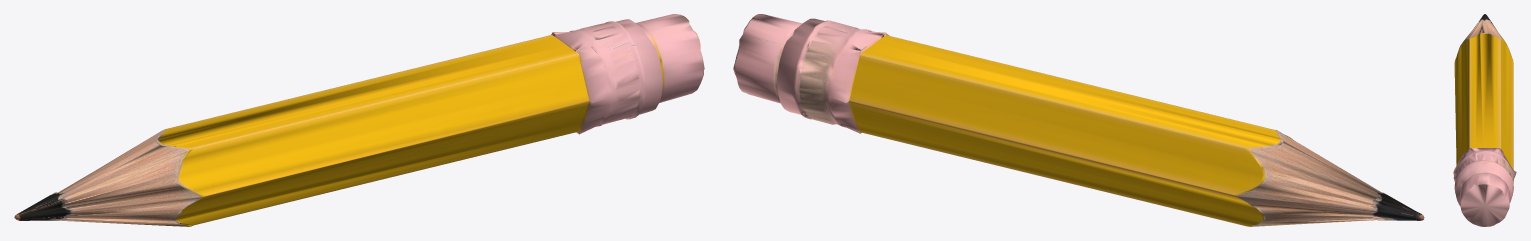
Rendered from pencil.glb.
The picture shows the model from 3 angles, left to right: view 1: azimuth 30°, elevation 25°; view 2: azimuth 150°, elevation 25°; view 3: azimuth 270°, elevation 25°; orthographic projection. The views are drawn at different scales.
Size of the model in its own units: 0.9526 by 0.1226 by 0.1328.
1 material, 1 textured.
